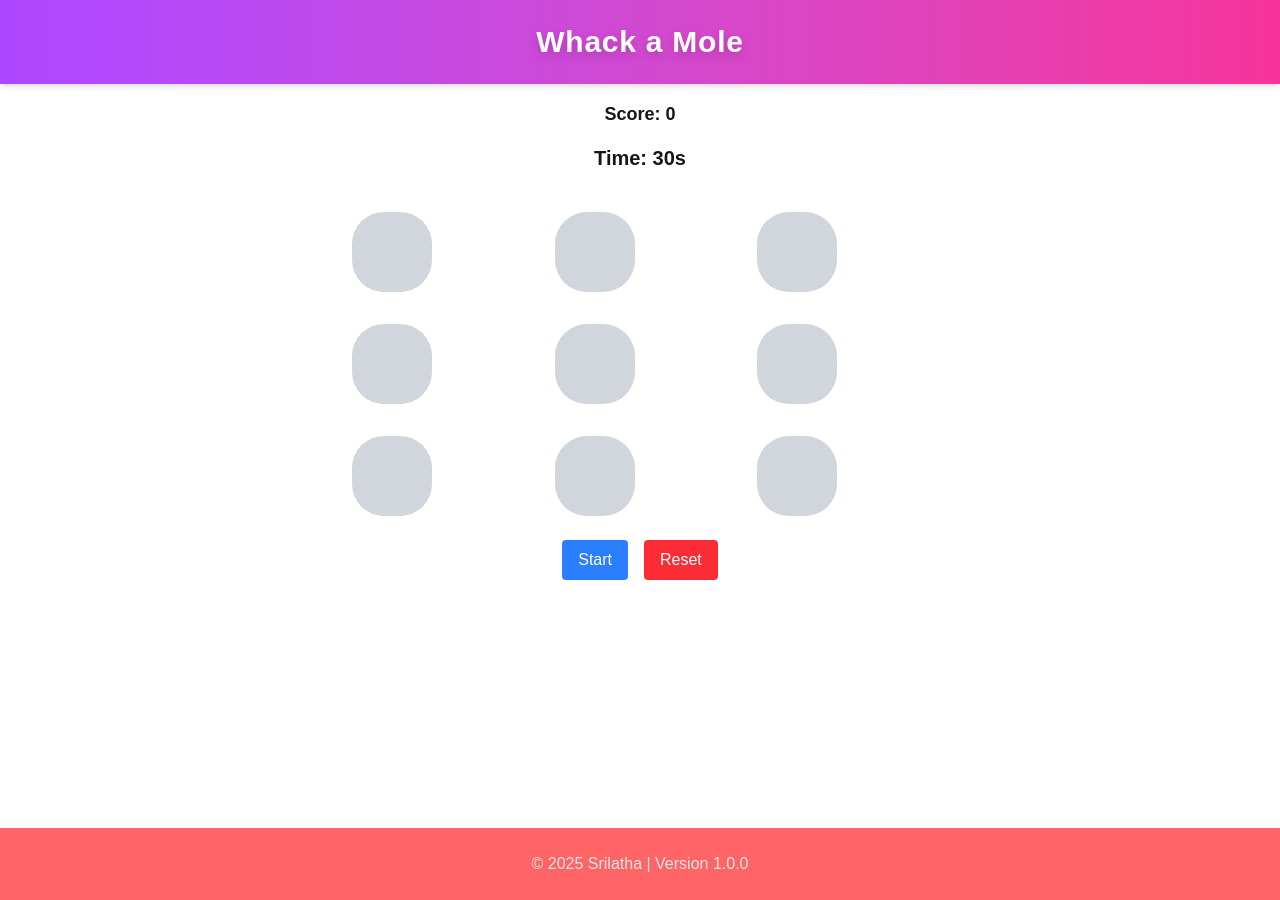
Test: Home Page - Whack-a-Mole › Integration Tests › starts game and shows moles after clicking Start
Step 1. Click the button with test id "start-btn" → (595, 560), box 562,540 -> 628,580
Wait 1000 ms
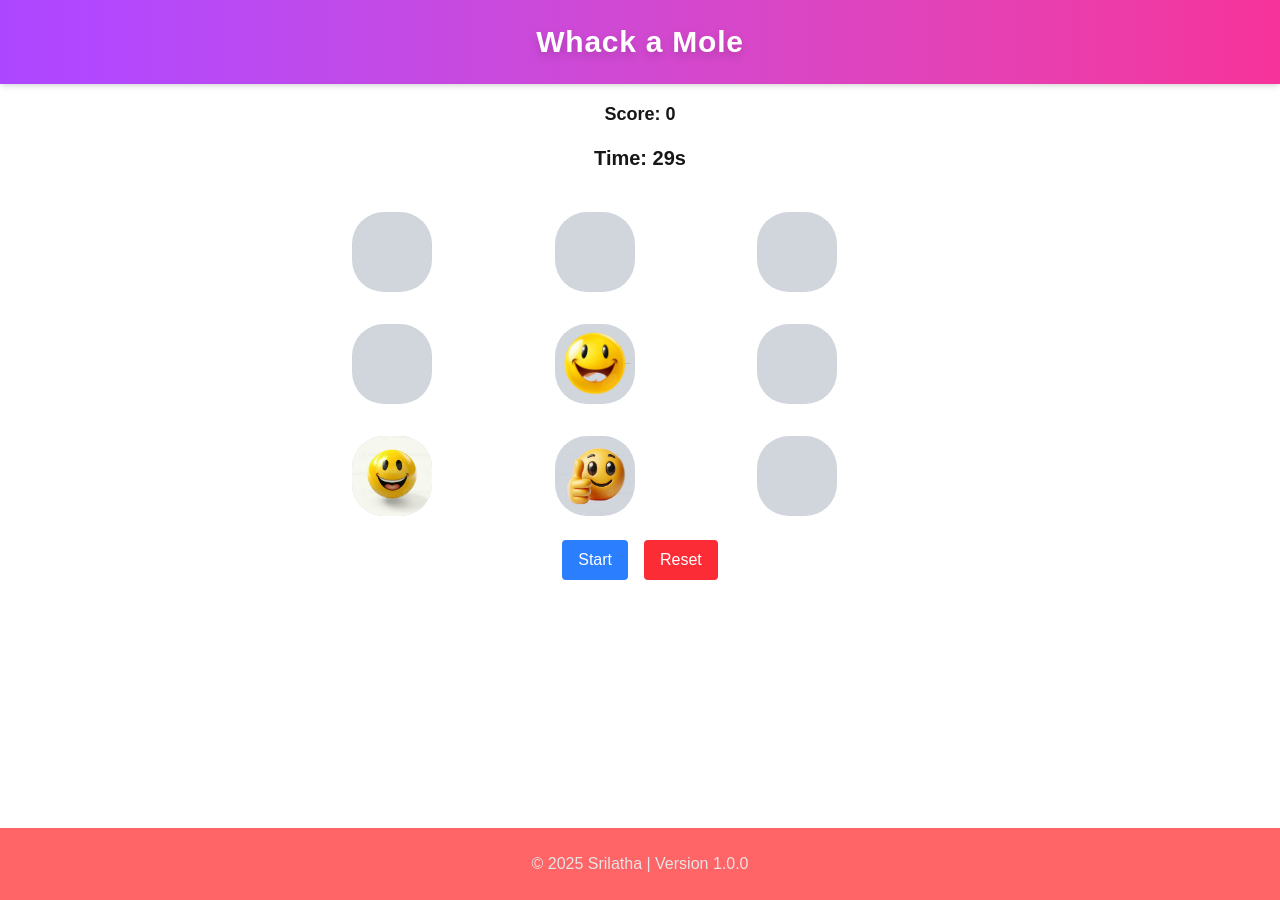
Check: the 1st picture with test id "mole" is shown, box 555,324 -> 635,404
